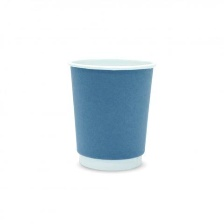paper_cup: (63, 51, 160, 175)
